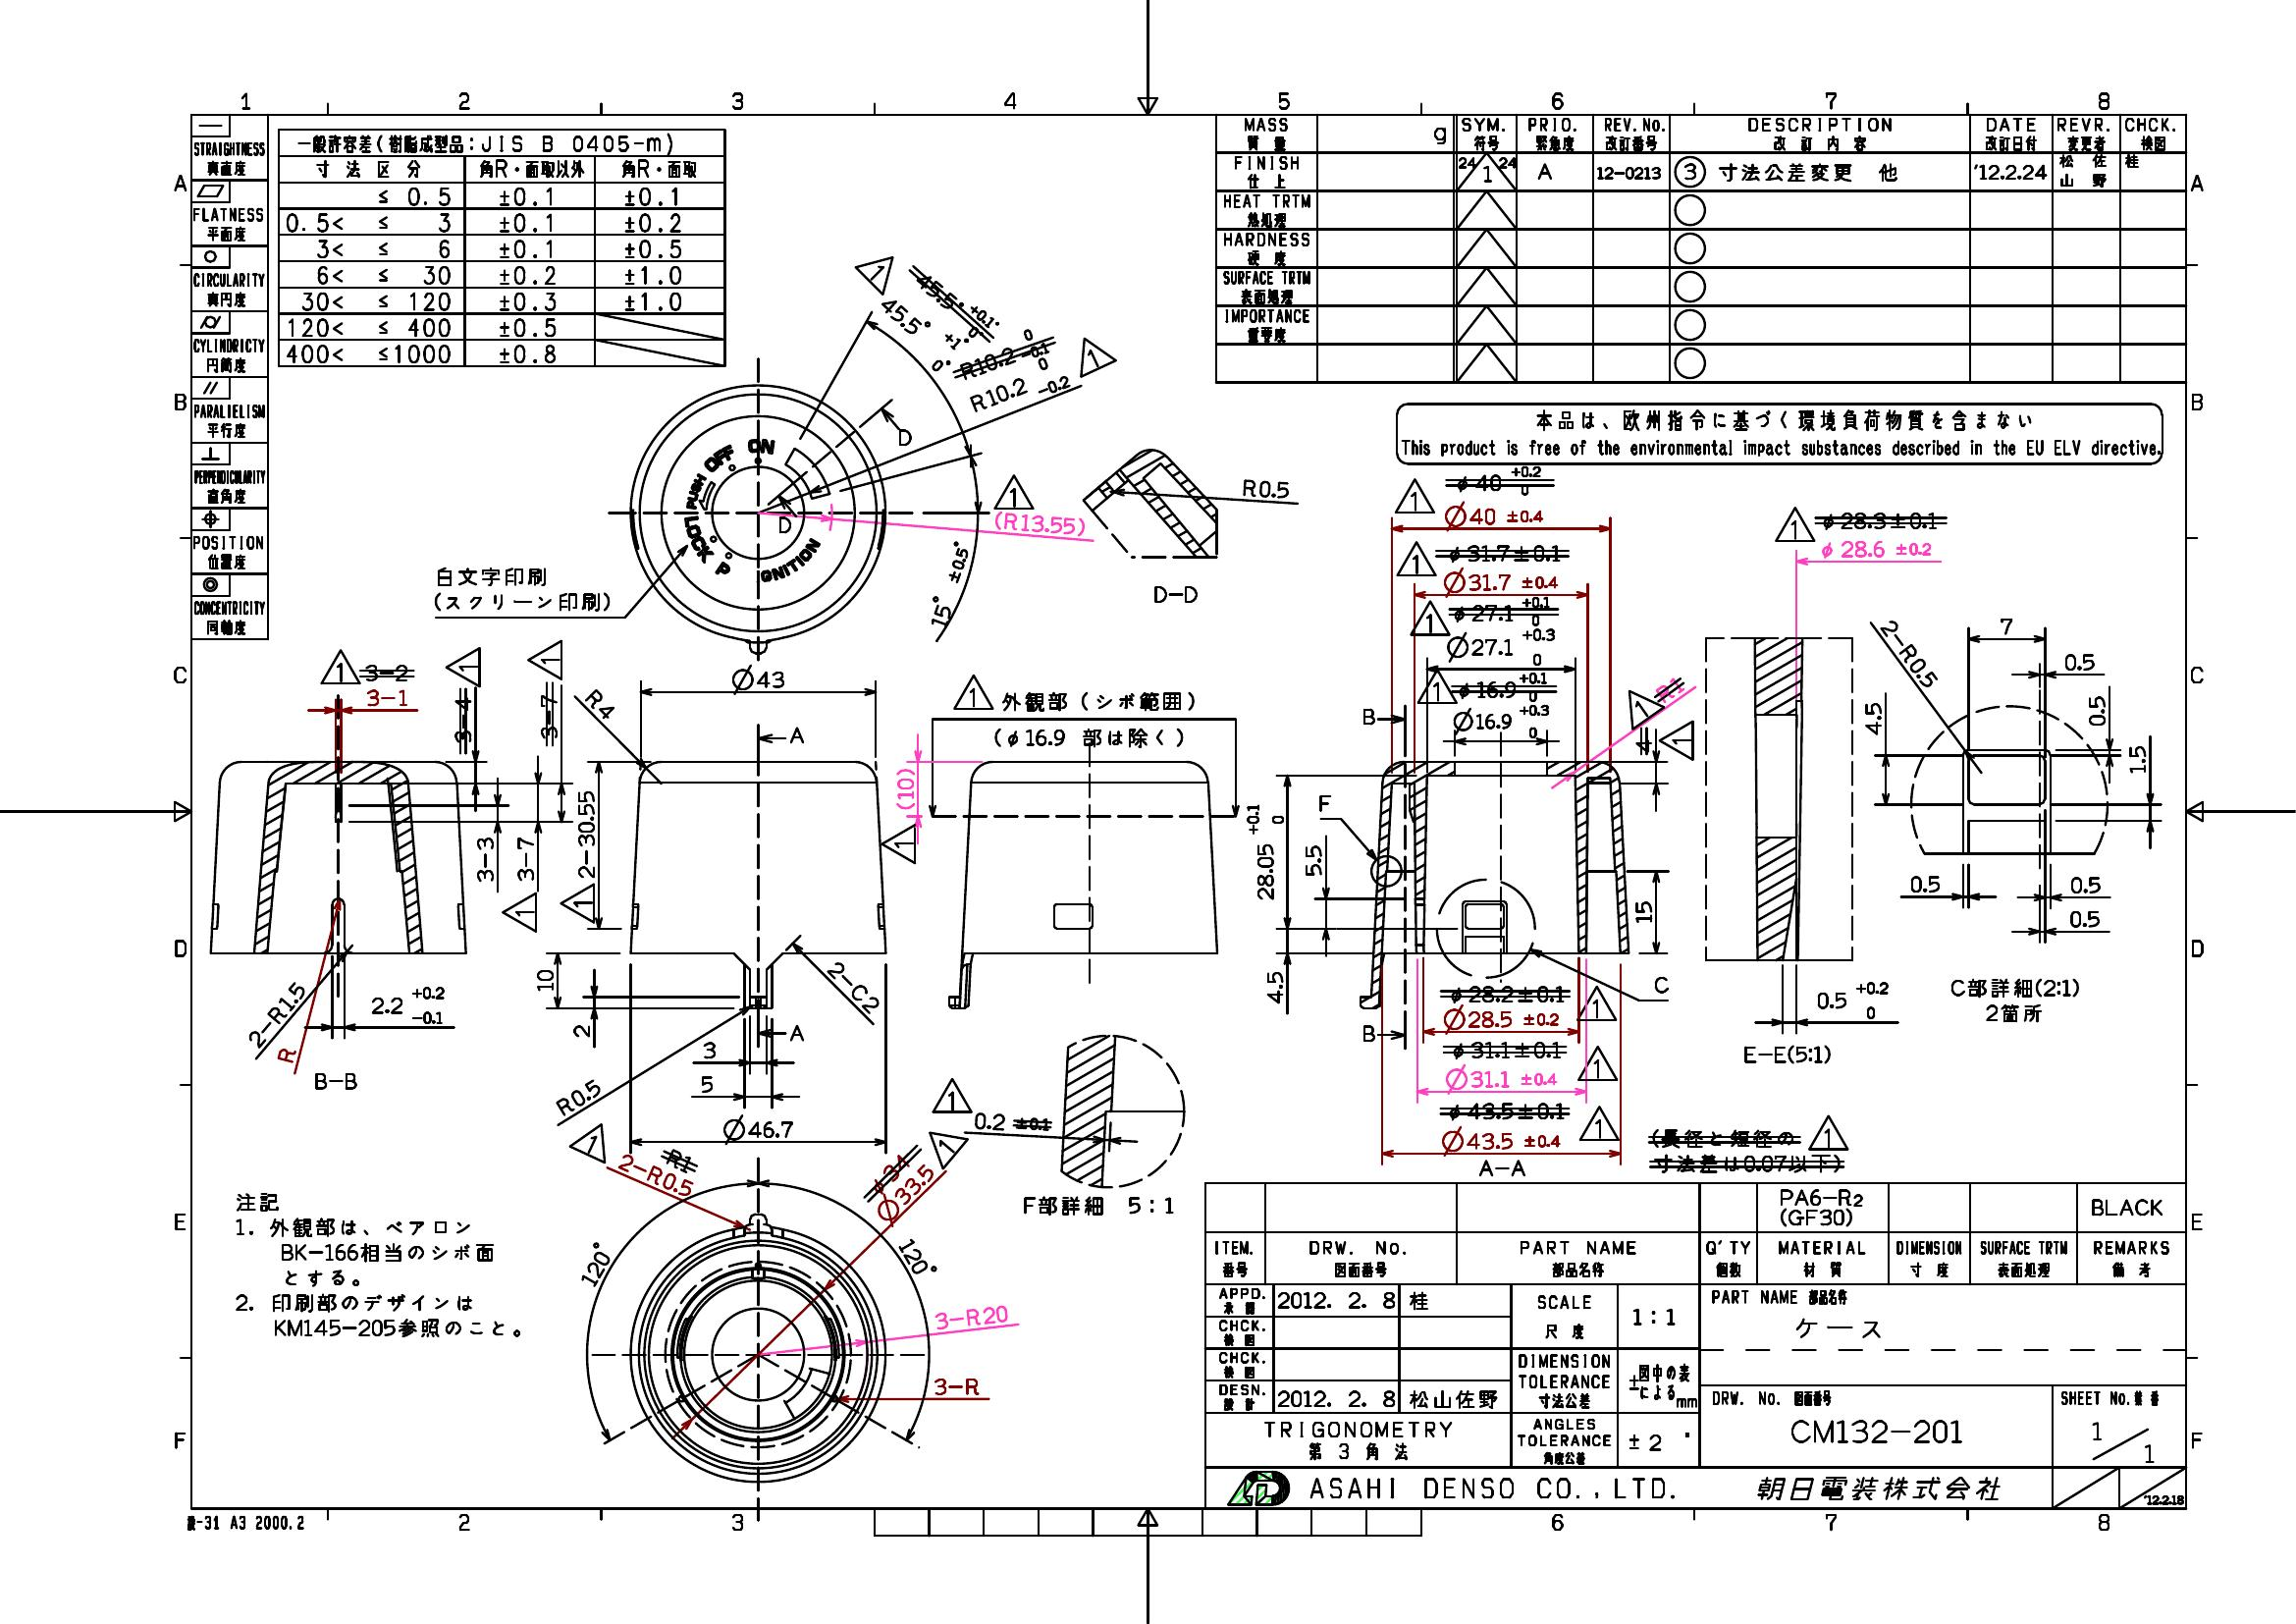anntotation_text: (1393, 401, 2164, 466), (230, 1192, 522, 1338), (950, 673, 1198, 714), (430, 564, 611, 613), (987, 724, 1188, 749), (1021, 1193, 1175, 1216), (1948, 977, 2082, 1000), (1741, 1042, 1832, 1067), (186, 1513, 306, 1531), (1068, 330, 1114, 373), (523, 638, 564, 682), (1657, 719, 1697, 763), (318, 647, 364, 685), (929, 1076, 975, 1114), (1804, 1114, 1850, 1153), (1576, 1042, 1618, 1083), (1618, 684, 1660, 724), (499, 891, 538, 935), (1578, 1104, 1621, 1142), (571, 1120, 617, 1156), (921, 1125, 966, 1162), (1391, 478, 1437, 515), (859, 248, 899, 288), (443, 647, 481, 689), (559, 882, 597, 924), (1576, 984, 1618, 1023), (1773, 504, 1815, 543), (1414, 668, 1458, 705), (993, 473, 1036, 510), (1409, 599, 1451, 636), (880, 823, 917, 865), (1397, 540, 1437, 576), (1983, 1000, 2041, 1025), (1152, 582, 1198, 605), (1476, 1158, 1528, 1178), (313, 1070, 358, 1090), (783, 722, 806, 745), (276, 1048, 297, 1067), (787, 1023, 806, 1044), (1360, 1025, 1379, 1044), (1651, 974, 1669, 995), (896, 427, 913, 448), (1361, 705, 1375, 729), (1318, 791, 1332, 814)
dimension_text: (964, 364, 1070, 408), (1444, 626, 1558, 666), (875, 302, 970, 350), (1244, 801, 1286, 902), (1442, 1004, 1562, 1035), (1442, 566, 1560, 598), (1451, 705, 1549, 740), (1442, 1063, 1556, 1093), (369, 984, 448, 1026), (1440, 501, 1546, 533), (1439, 1128, 1562, 1155), (1816, 981, 1890, 1021), (1822, 540, 1932, 564), (906, 571, 994, 599), (718, 1113, 796, 1144), (993, 510, 1086, 534), (574, 789, 599, 881), (870, 1178, 940, 1209), (617, 1162, 697, 1186), (235, 1002, 320, 1025), (727, 664, 785, 696), (1867, 643, 1950, 664), (936, 1304, 1008, 1327), (822, 975, 885, 1000), (1242, 476, 1291, 501), (513, 833, 536, 884), (553, 1086, 603, 1109), (931, 1376, 980, 1399), (571, 1251, 617, 1276), (473, 835, 495, 882), (364, 685, 409, 708), (896, 1246, 940, 1269), (1263, 968, 1288, 1004), (1300, 842, 1323, 877), (2068, 872, 2103, 895), (2068, 905, 2101, 928), (1862, 700, 1883, 735), (583, 692, 617, 714), (2126, 743, 2148, 773), (975, 1111, 1007, 1132), (1910, 874, 1941, 895), (2085, 694, 2106, 726), (2062, 650, 2094, 671), (531, 967, 555, 993), (1632, 898, 1653, 926), (696, 1072, 715, 1095), (1996, 613, 2015, 634), (699, 1037, 715, 1062), (569, 1023, 590, 1040)
object: (627, 381, 887, 656), (627, 1211, 887, 1483), (1358, 758, 1632, 1012), (947, 758, 1221, 1009), (627, 758, 889, 1011), (209, 759, 469, 956), (1059, 1035, 1184, 1190), (1751, 640, 1804, 967), (1080, 446, 1219, 559), (1960, 749, 2054, 856)
title_block: (1202, 1181, 2189, 1513), (1210, 111, 2189, 387), (276, 127, 727, 367), (188, 112, 271, 643)
